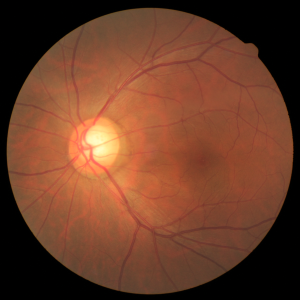glaucoma: (33, 96, 240, 218)
